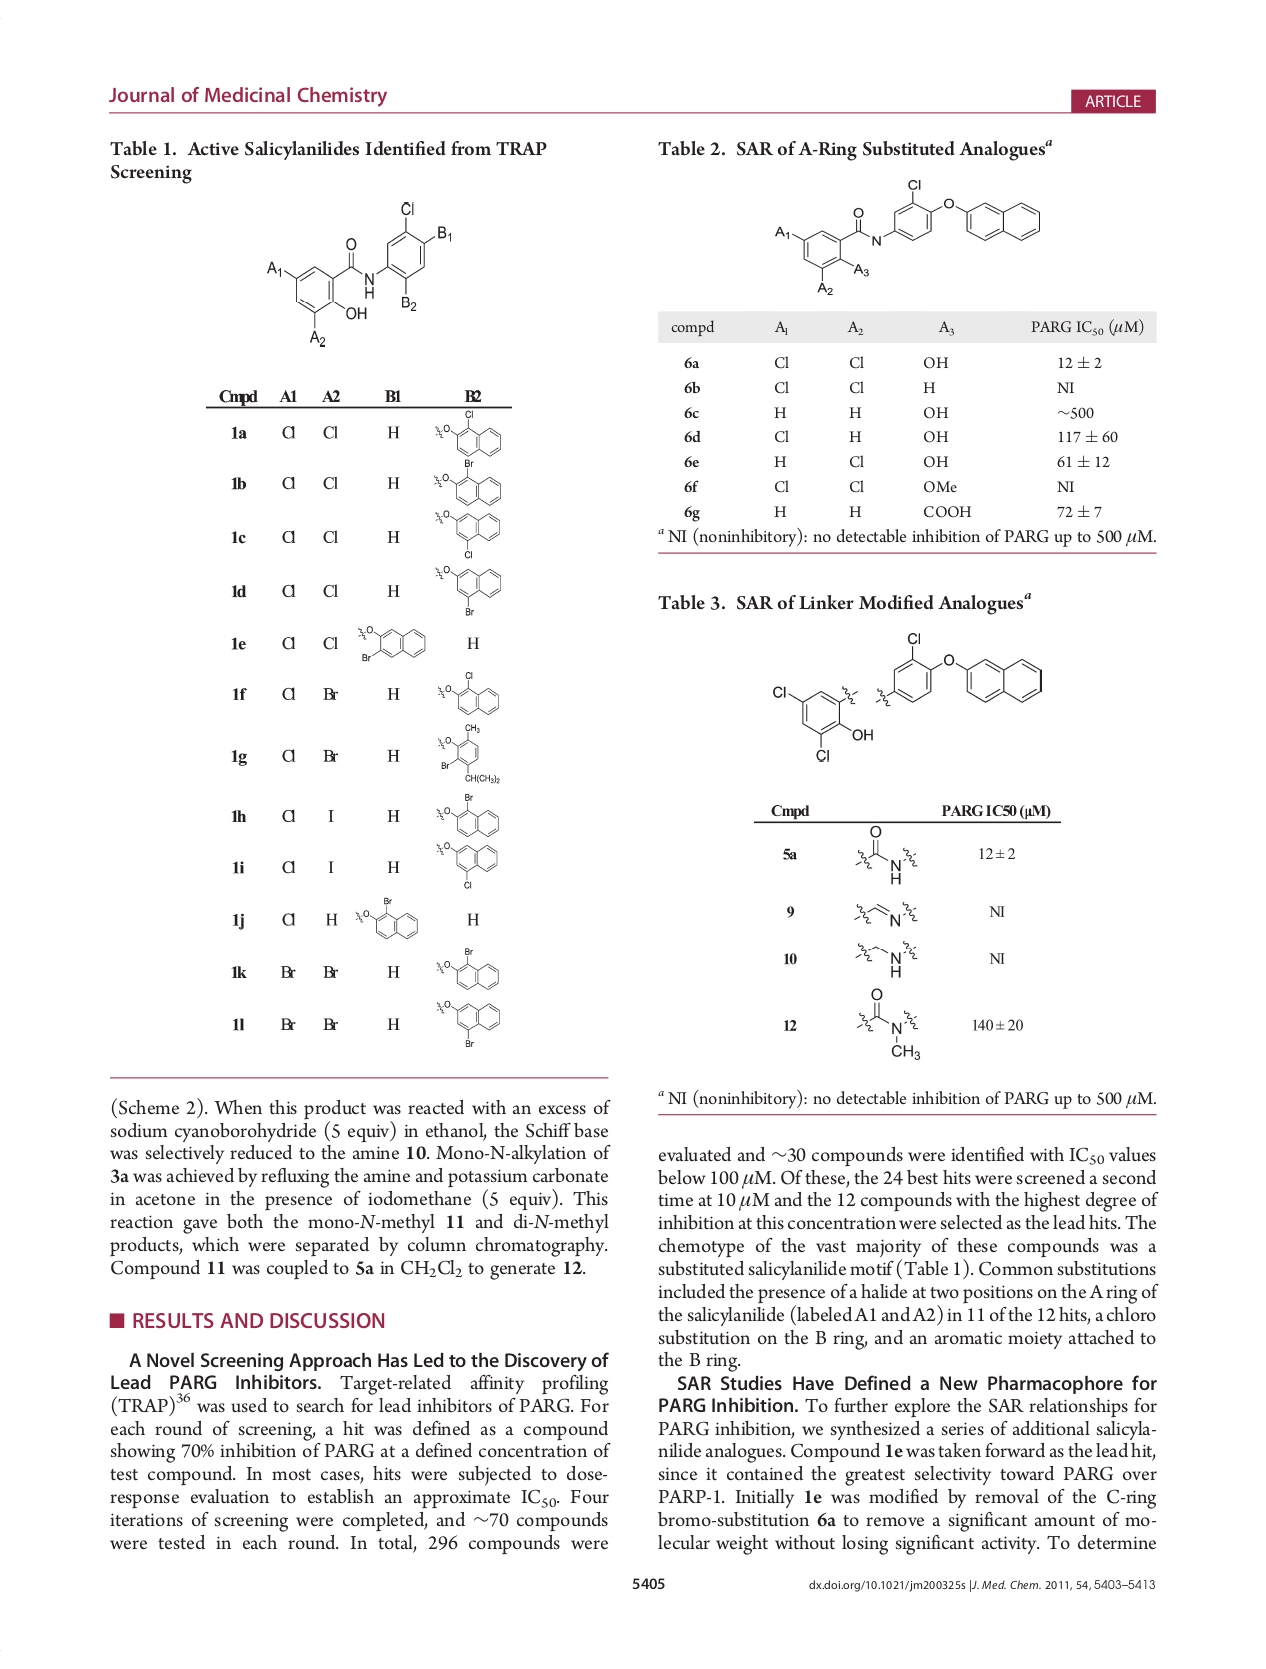exist_molecular: (773, 176, 1043, 297), (265, 197, 453, 352), (875, 629, 1047, 711), (770, 678, 876, 765), (854, 985, 923, 1063), (435, 719, 504, 786), (852, 823, 918, 886), (432, 993, 503, 1051), (432, 561, 501, 618), (430, 508, 501, 560), (430, 457, 504, 507), (432, 838, 501, 890), (432, 410, 504, 457), (354, 618, 428, 664), (434, 790, 501, 838), (354, 894, 422, 942), (851, 934, 919, 980), (434, 946, 503, 991), (435, 670, 500, 717), (851, 898, 919, 927)
